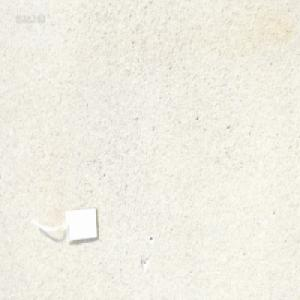LuggageTag: (30, 203, 99, 245)
